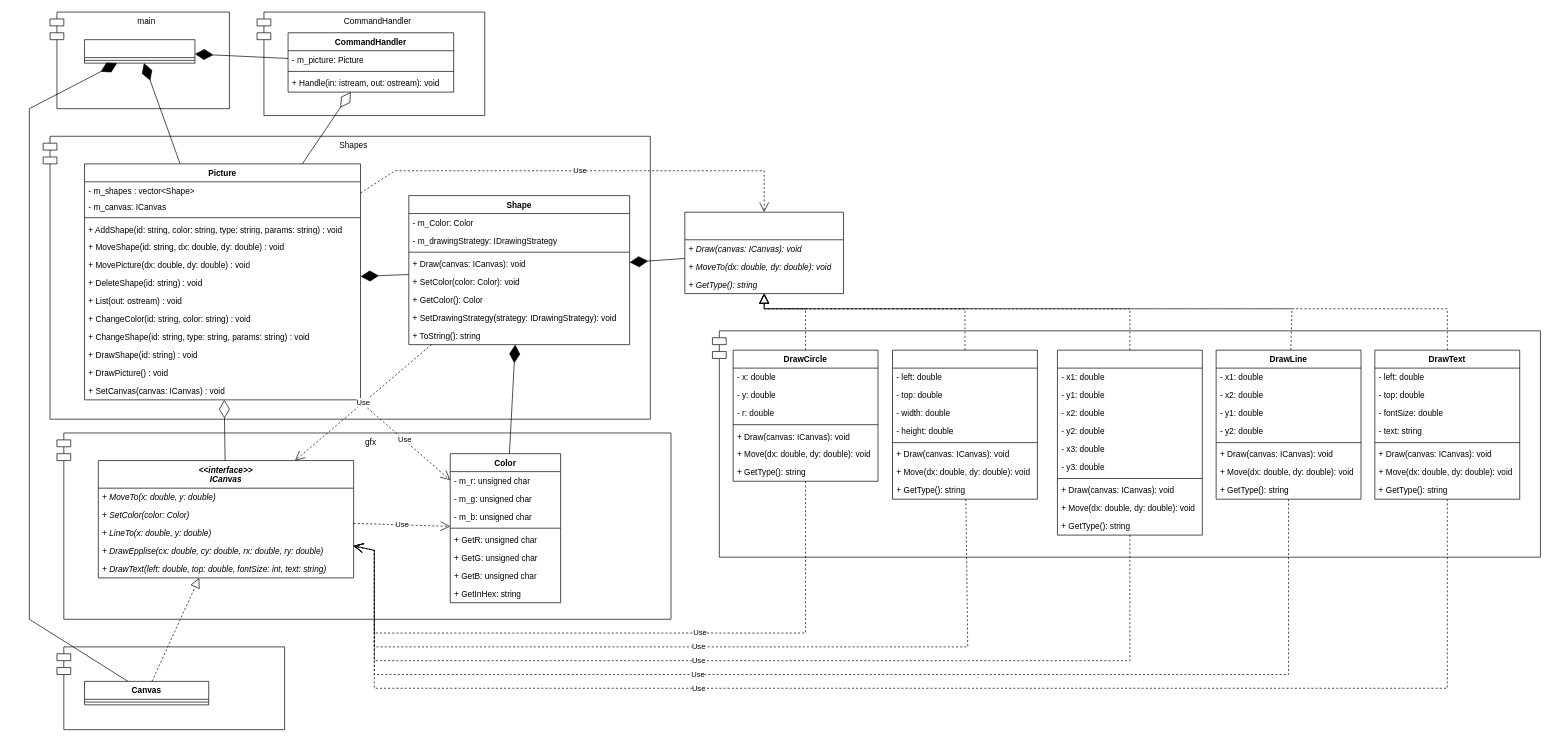
Image size: 1553x742. Some labels were removed from this diagram. The box of each missing label's shape, as (x1, y1, x2, y2) in pixels:
<<interface> IDrawingStrategy: (684, 211, 844, 294)
App: (84, 39, 195, 63)
DrawRectangle: (892, 349, 1037, 499)
DrawStrategies: (712, 330, 1540, 557)
DrawTriangle: (1057, 349, 1202, 535)
SFML: (56, 646, 285, 730)
